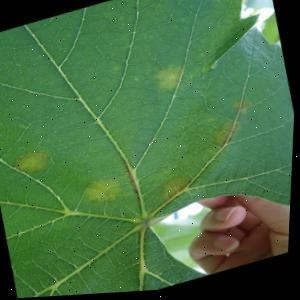Folha: (0, 0, 300, 300)
Fungo: (81, 173, 127, 210), (13, 146, 54, 178), (153, 63, 188, 95), (159, 173, 196, 203)
